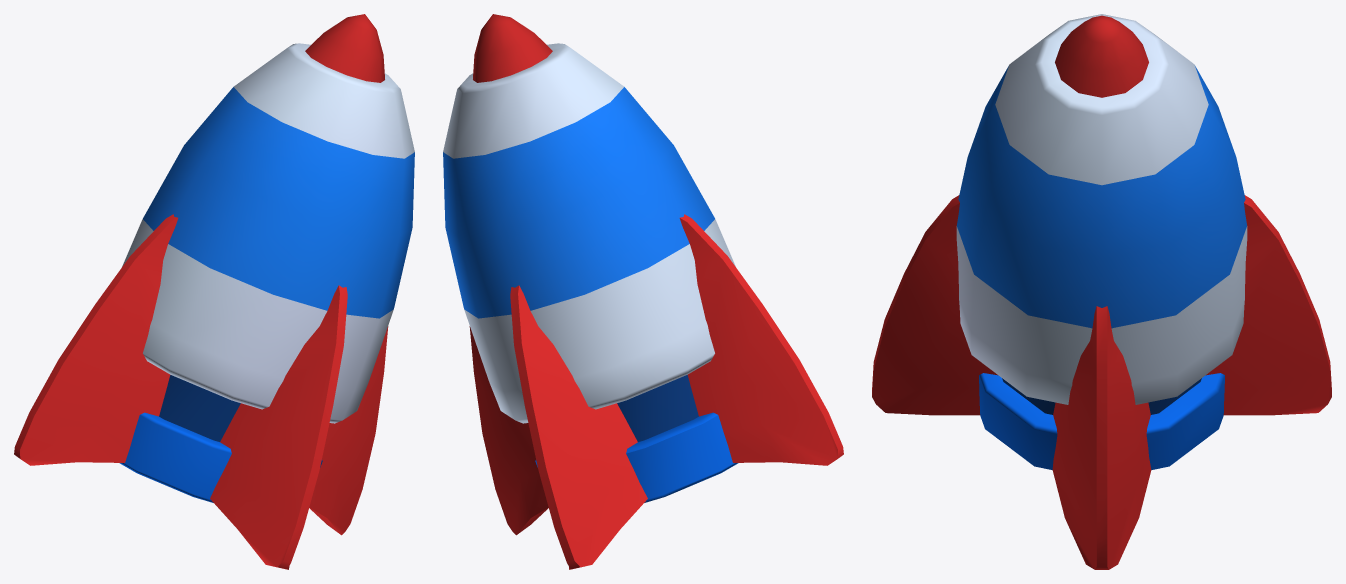
The picture shows the model from 3 angles, left to right: view 1: azimuth 30°, elevation 25°; view 2: azimuth 150°, elevation 25°; view 3: azimuth 270°, elevation 25°; orthographic projection. The views are drawn at different scales.
Parts seen in each view (by area): view 1: model_0.060; view 2: model_0.060; view 3: model_0.060.
Part boxes in pixels (x1,y1,x2,y2): model_0.060: (14,14,414,569); model_0.060: (443,14,843,569); model_0.060: (872,14,1331,569).
Size of the model in its own units: 3.46 by 4.39 by 3.27.
